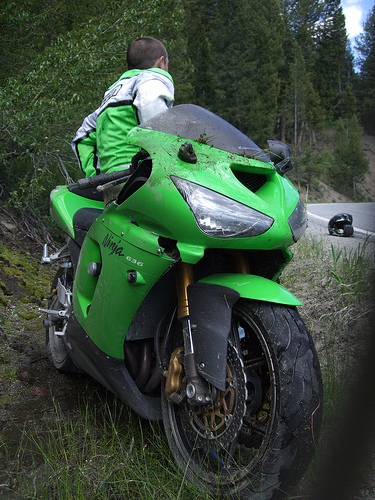helmet: (330, 215, 355, 236)
